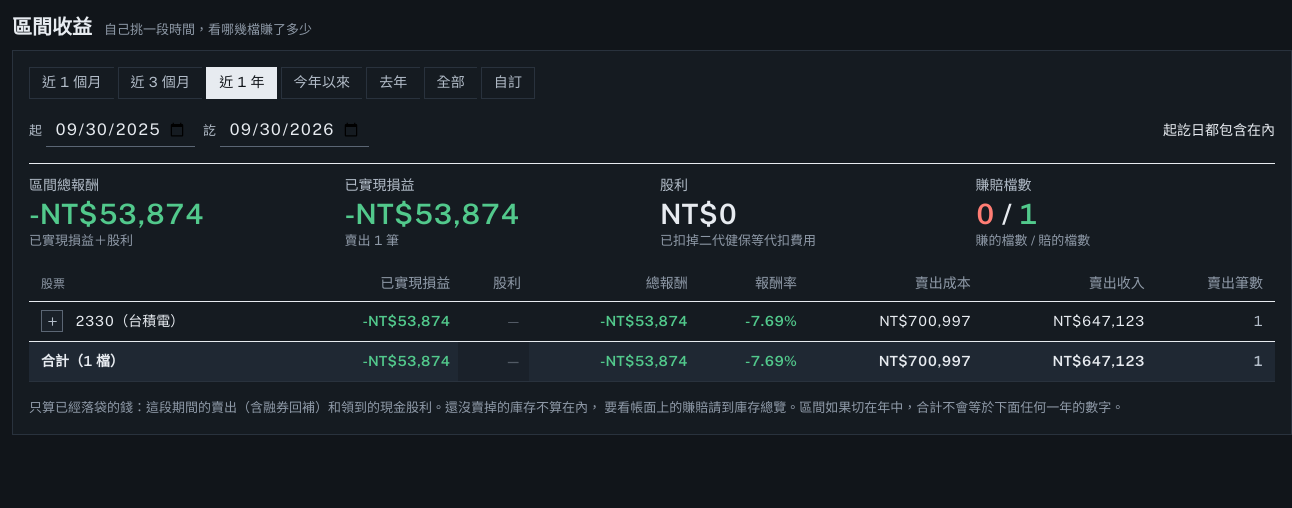
Test: RangeSection › 按「去年」重算區間，表格跟著換成那一年的賣出
The width and height of the screenshot is (1292, 508).
近 1 年只看得到 2026-07-11 那筆
Step 1. Click the button named "展開 2330 區間內的逐筆賣出" → [52, 321], box [41,310,63,332]
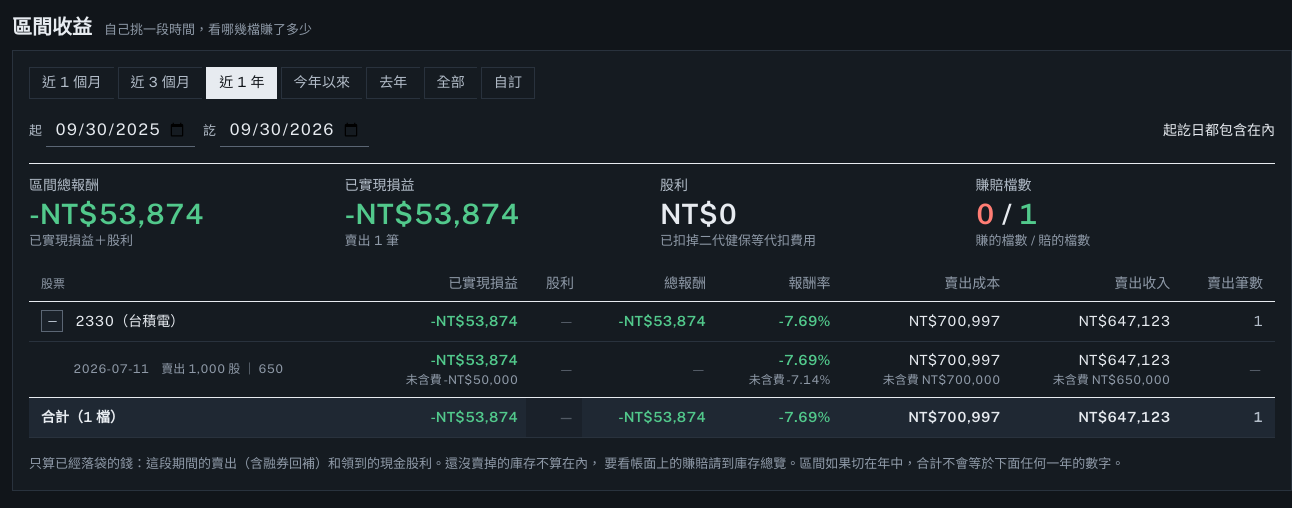
Now the text "2026-07-11 賣出 1,000 股 ｜ 650" is shown, box [73,362,283,376]
Step 2. Click the button "去年" → [393, 82], box [366,66,420,98]
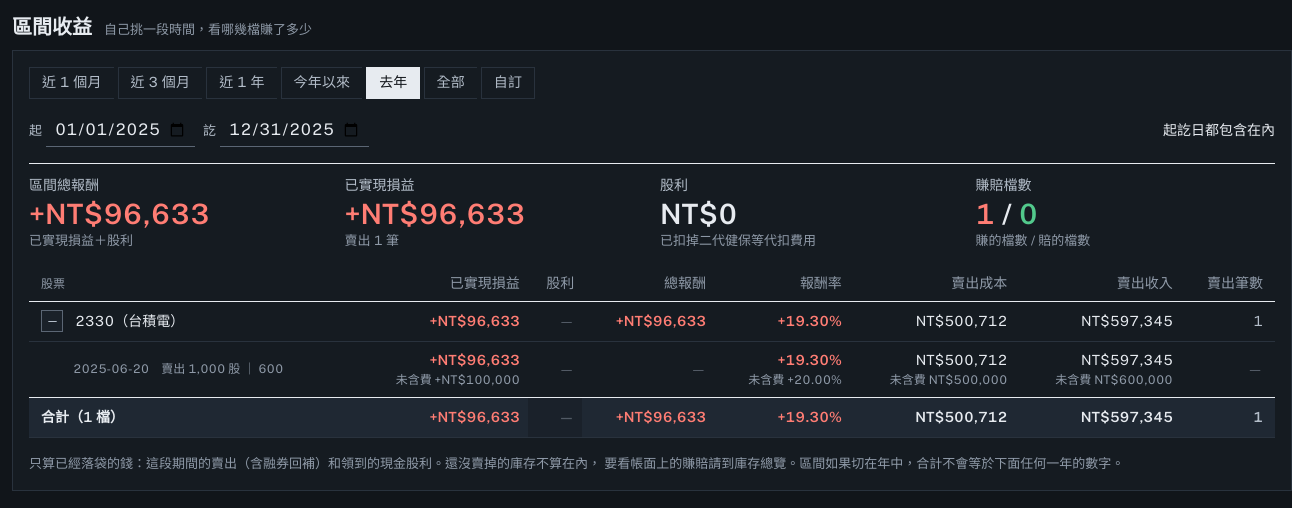
Now the date field labelled "起" holds "2025-01-01", box [46,114,195,146]
Now the date field labelled "訖" holds "2025-12-31", box [220,114,369,146]
Now the text "2025-06-20 賣出 1,000 股 ｜ 600" is shown, box [73,362,283,376]
